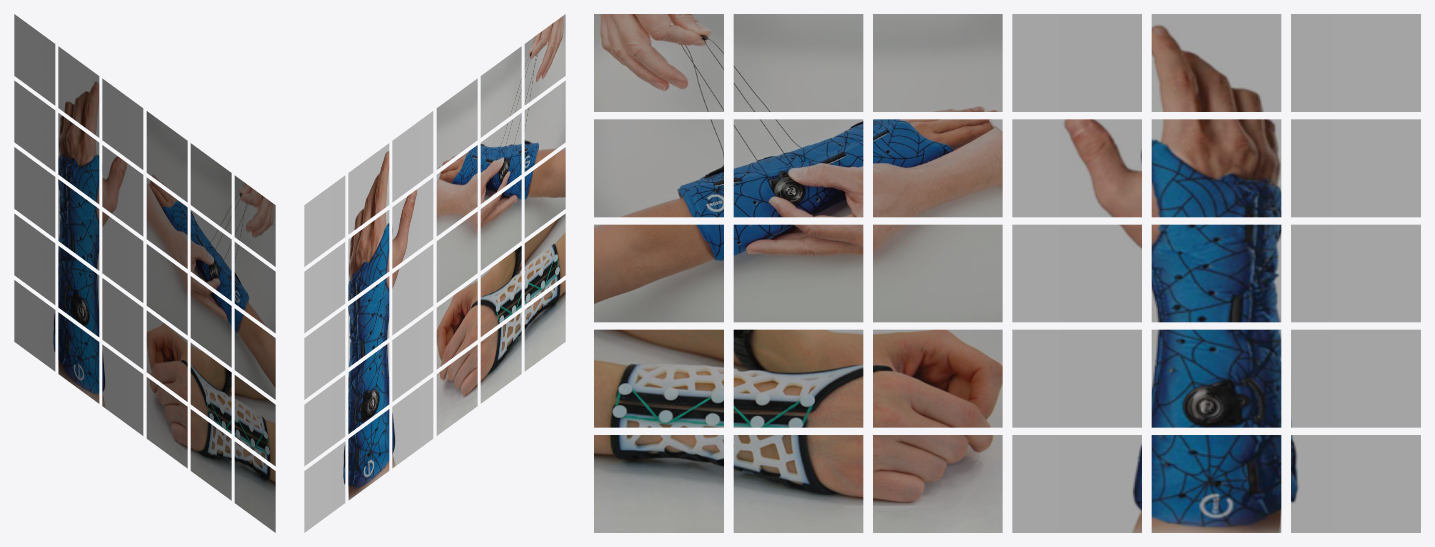
File: TV_ort_2.glb
3 views of the same model, side by side, from view 1: azimuth 30°, elevation 25°; view 2: azimuth 150°, elevation 25°; view 3: azimuth 270°, elevation 25° (orthographic). The views are drawn at different scales.
Parts seen in each view (by area): view 1: 1, 2, 3; view 2: 1, 2, 3; view 3: 1, 2, 3.
Boxes of the visible parts, box(x1,y1,x2,y2) form: 1: box(14, 14, 143, 435); 2: box(146, 111, 275, 399); 3: box(146, 310, 275, 532); 1: box(304, 111, 433, 532); 2: box(436, 14, 565, 302); 3: box(436, 213, 565, 435); 1: box(1012, 14, 1420, 532); 2: box(594, 14, 1002, 322); 3: box(594, 329, 1002, 532).
Bounding box in the file's own units: 1.27e-07 × 8.82 × 12.74.
3 materials, 3 textured.
